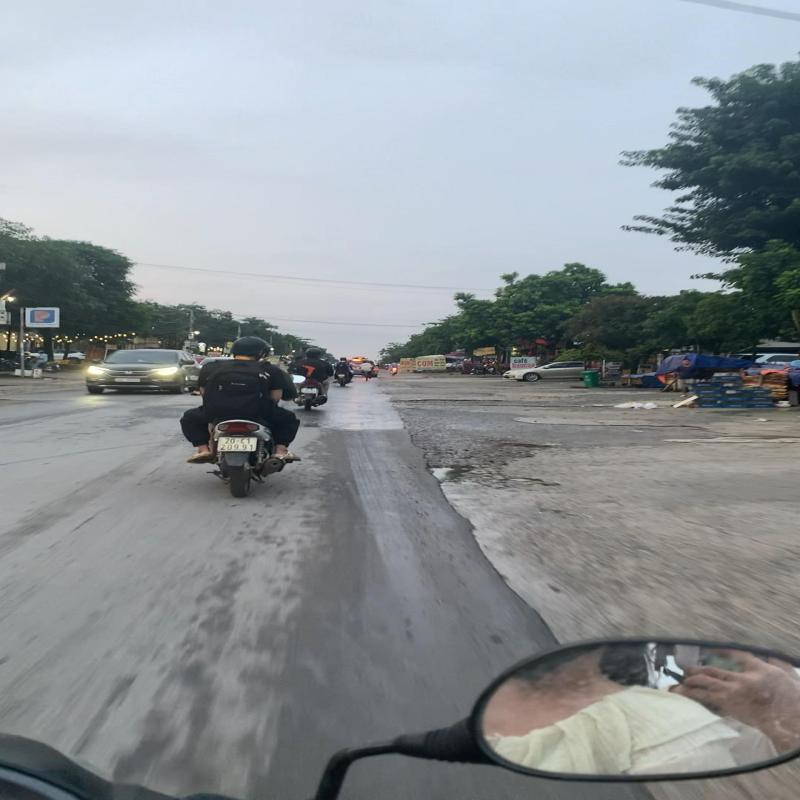helmet: (228, 334, 271, 358)
licenseplate: (214, 435, 260, 454)
motorcyclist: (174, 332, 306, 499)
